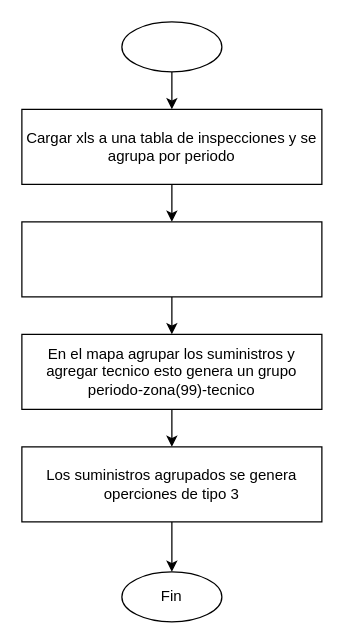
The diagram is 344 pixels wide and 644 high, and some of its shapes have lost their labels. The shapes that lost their labels are listed below. From the top down, each one's box as (x1, y1, x2, y2) in pixels, then its label:
(121, 21, 222, 72): Inicio
(21, 221, 322, 297): De la tabla inspecciones todas las que estan activas deben pasar al mapa
